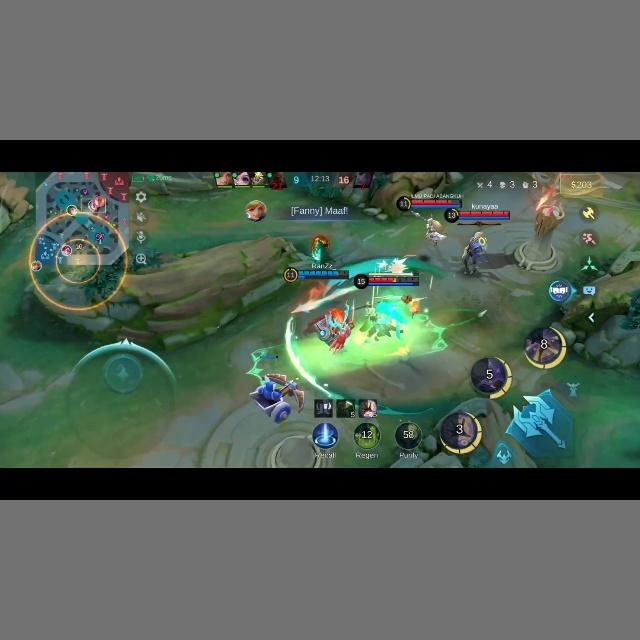hp_enemy: (442, 208, 508, 224), (366, 274, 420, 286), (408, 198, 460, 208)
hp_self: (282, 268, 350, 282), (258, 356, 279, 360)
minion_ally: (248, 370, 304, 400)
minion_enemy: (310, 305, 355, 351)
